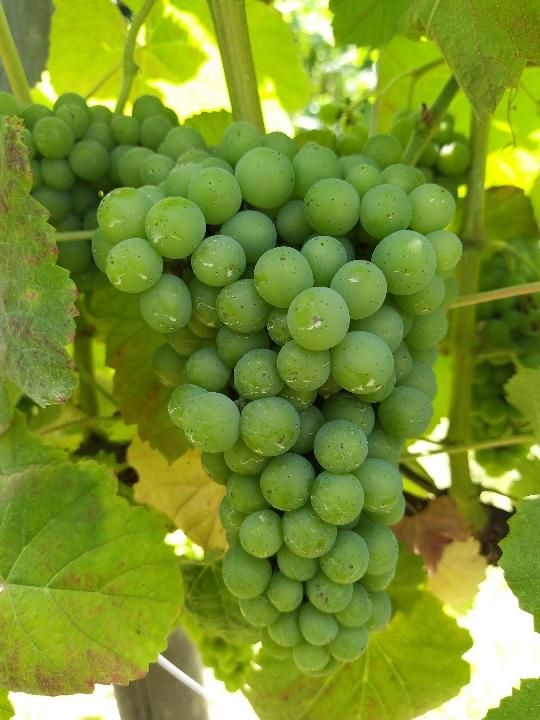grape: (89, 141, 464, 675)
